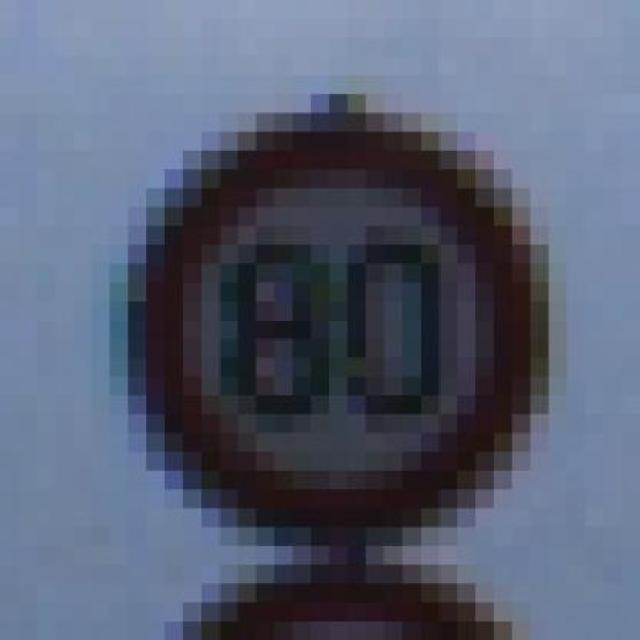forb_speed_over_80: (156, 129, 532, 536)
